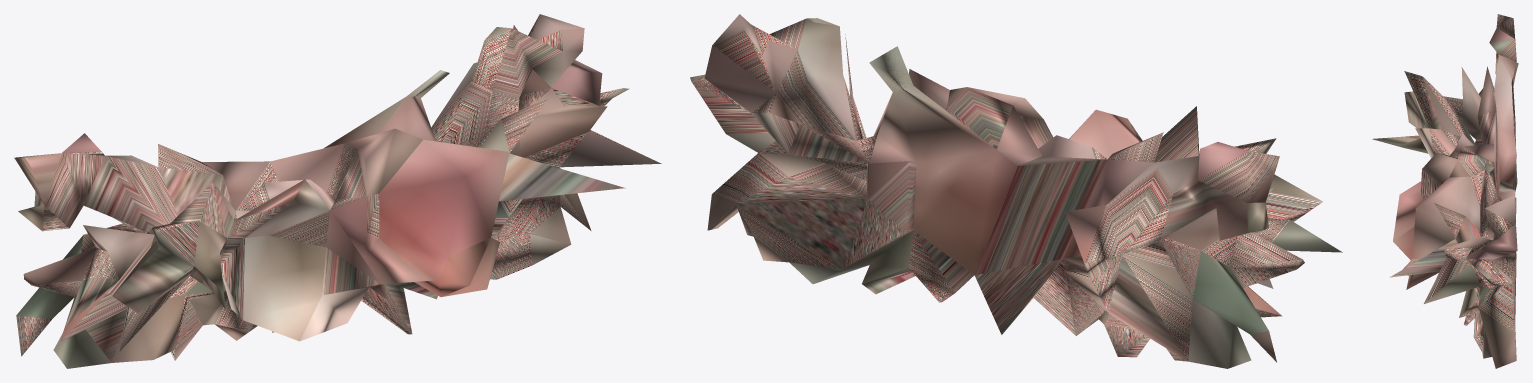
3 renders of one model, left to right at view 1: azimuth 30°, elevation 25°; view 2: azimuth 150°, elevation 25°; view 3: azimuth 270°, elevation 25°, orthographic. The views are drawn at different scales.
Parts seen in each view (by area): view 1: Rose-Spray-10-13; view 2: Rose-Spray-10-13; view 3: Rose-Spray-10-13.
Part boxes in pixels (left/top/right/bottom): Rose-Spray-10-13: left=14, top=14, right=661, bottom=368; Rose-Spray-10-13: left=690, top=14, right=1342, bottom=368; Rose-Spray-10-13: left=1372, top=14, right=1518, bottom=368.
Bounding box in the file's own units: 0.2989 × 0.1258 × 0.0854.
1 material, 1 textured.
